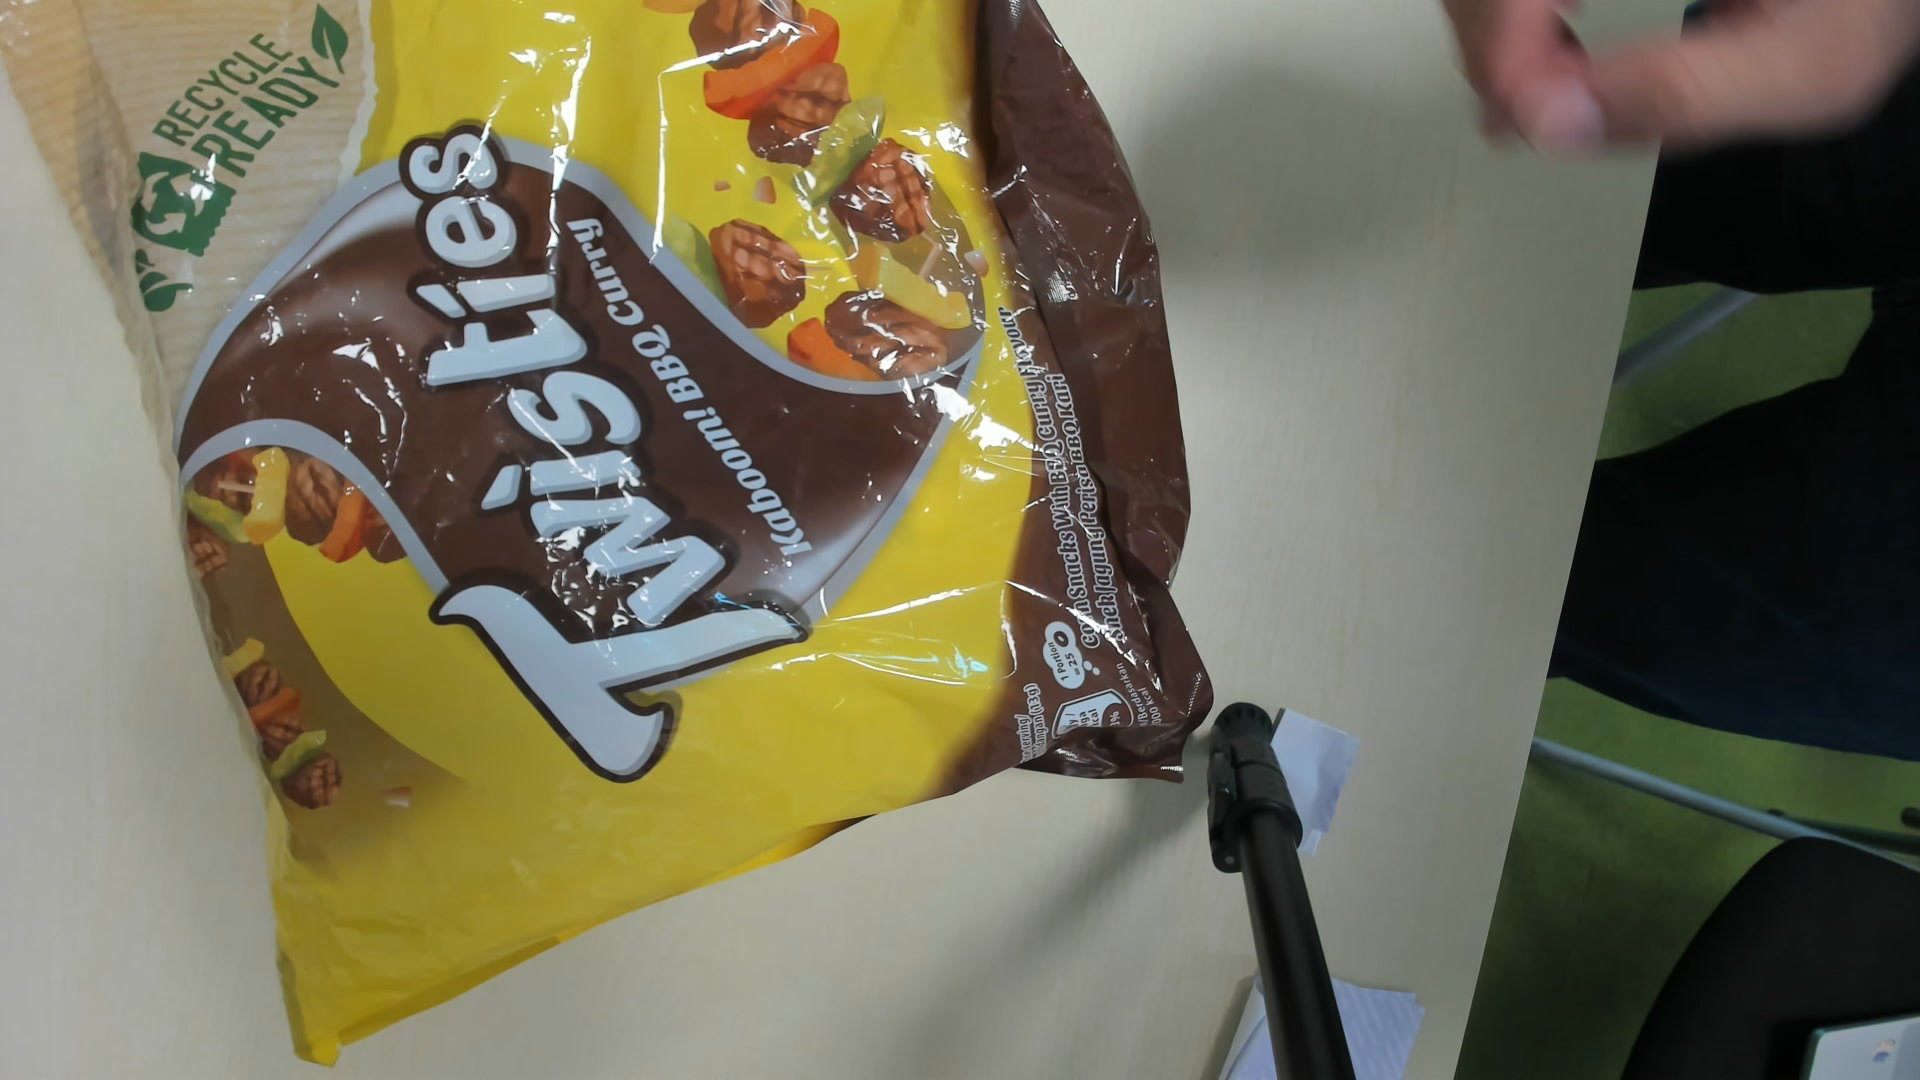PotatoChipsKeropok_0-99g_Halal_NonHealthy: (3, 3, 1211, 1080)
